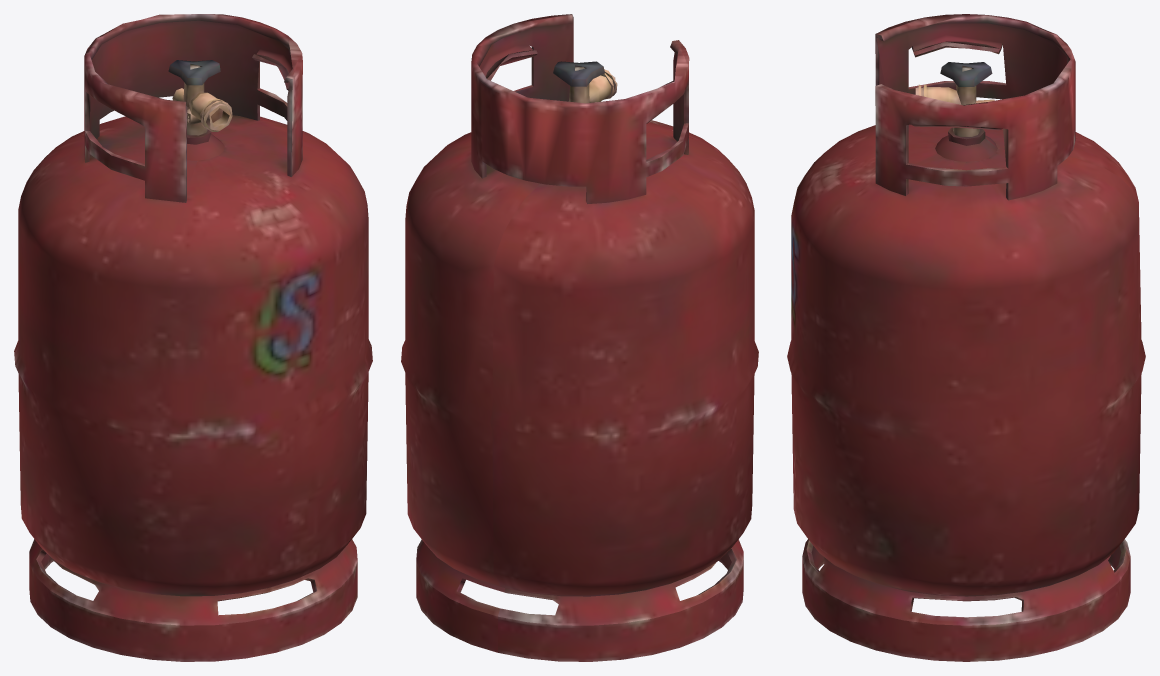
The model's file is propane_tank.glb.
The picture shows the model from 3 angles, left to right: view 1: azimuth 30°, elevation 25°; view 2: azimuth 150°, elevation 25°; view 3: azimuth 270°, elevation 25°; orthographic projection.
Visible parts, largest first — view 1: propane_tank; view 2: propane_tank; view 3: propane_tank.
Part boxes in pixels (left/top/right/bottom): propane_tank: left=14, top=14, right=372, bottom=661; propane_tank: left=401, top=14, right=758, bottom=661; propane_tank: left=787, top=14, right=1145, bottom=661.
Bounding box in the file's own units: 0.3374 × 0.5537 × 0.3374.
1 material, 1 textured.
